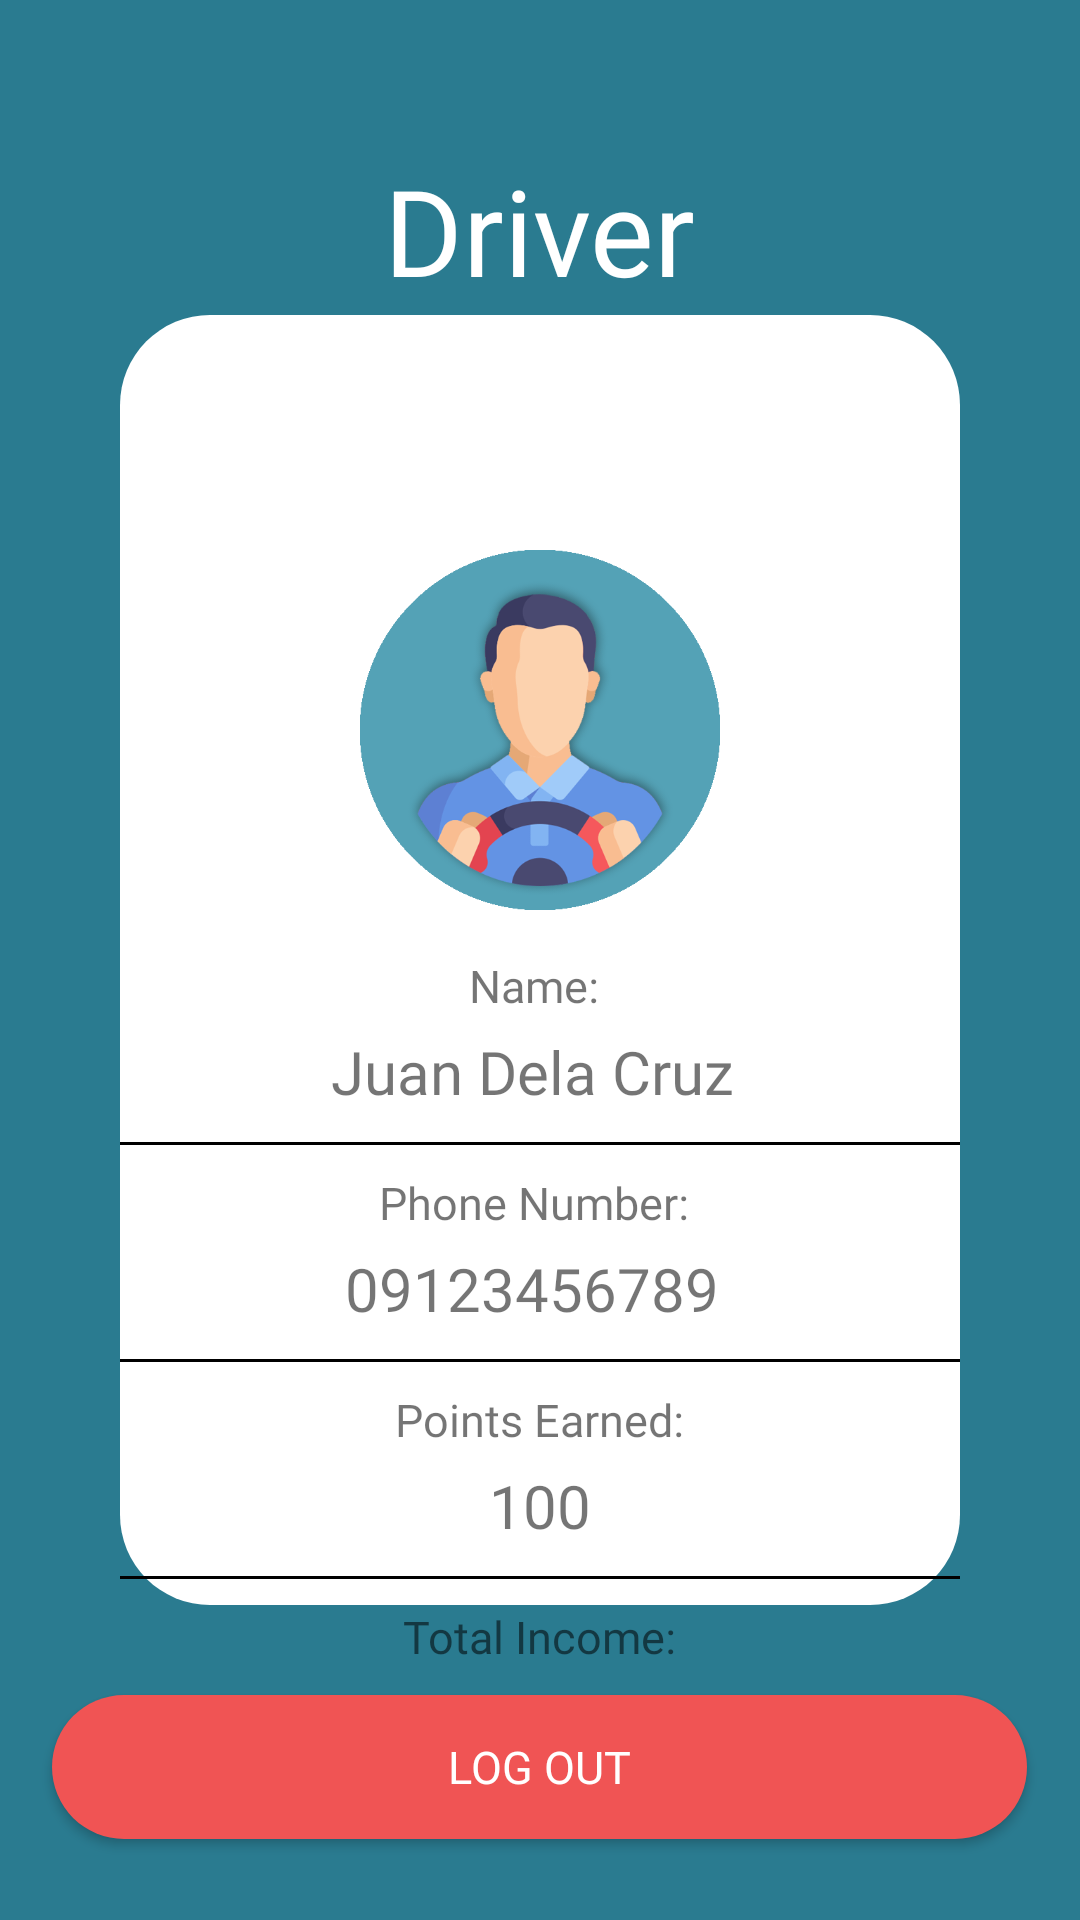

Where to tap for icons on this 1080px×1920px app screen, as (x,y):
driver: (540,730)
